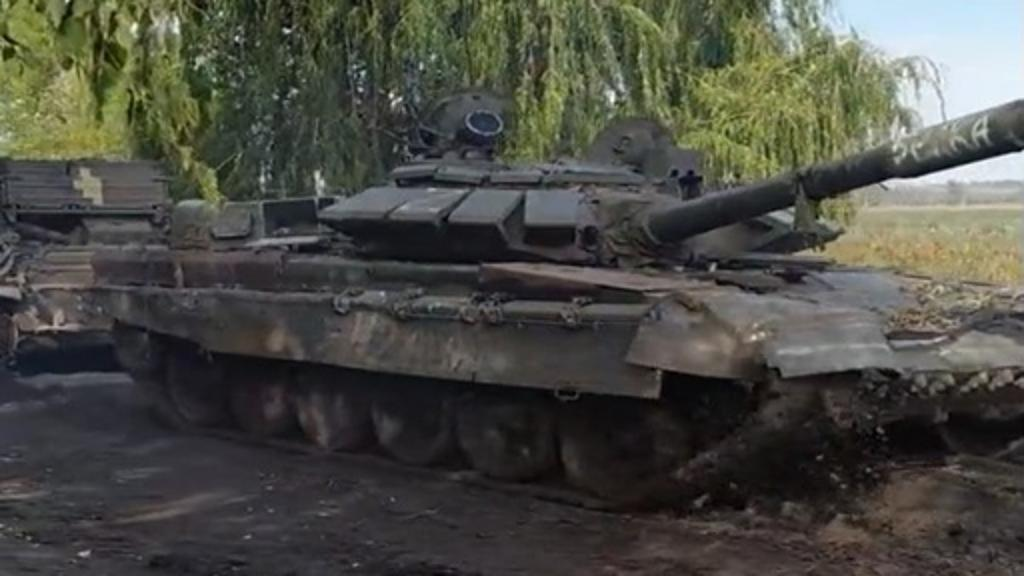TANK: (88, 62, 1022, 508)
